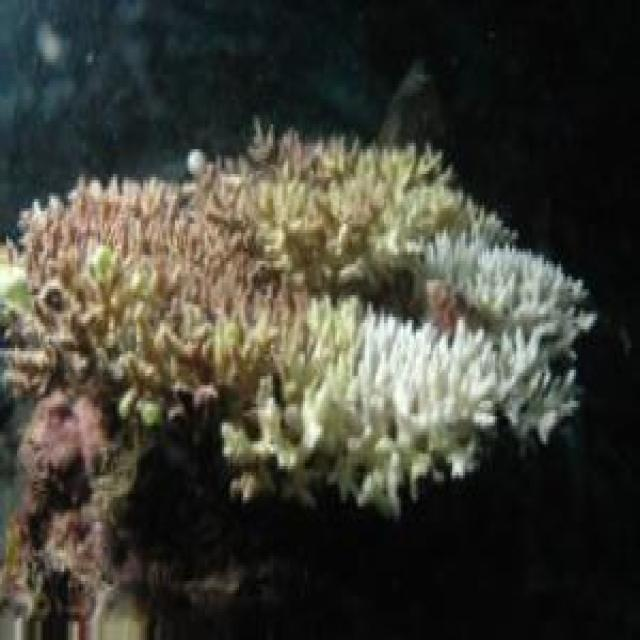bleached coral: (285, 279, 575, 514), (426, 209, 595, 376)
healthy coral: (26, 160, 250, 327), (236, 122, 429, 201)
